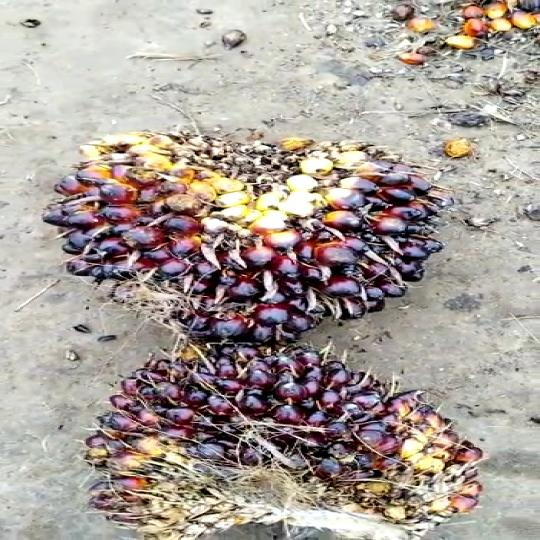kurang masak: (56, 125, 481, 347), (68, 344, 493, 532)
